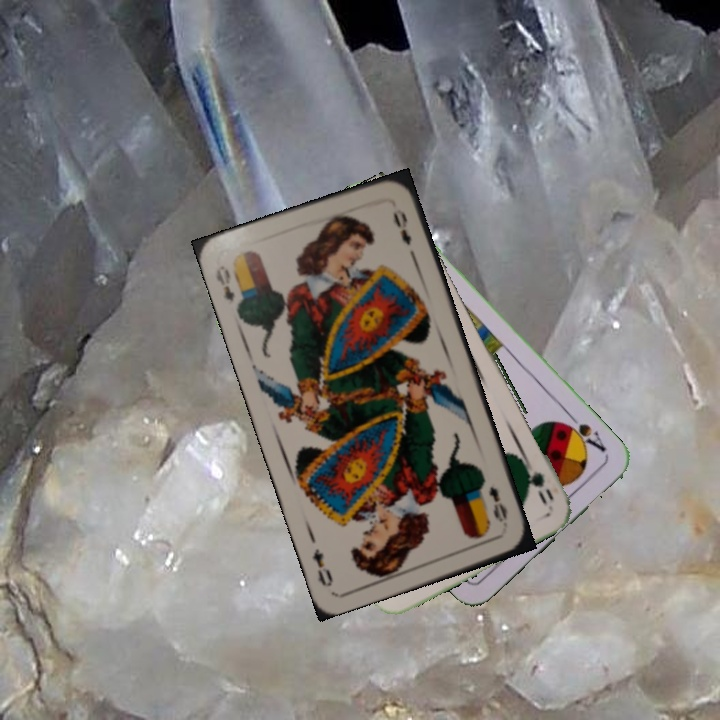EO: (212, 261, 238, 304), (485, 482, 510, 525)
GO: (516, 452, 557, 508)
SA: (558, 410, 609, 455)
